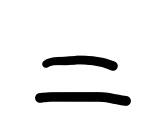eqv: (35, 55, 131, 106)
